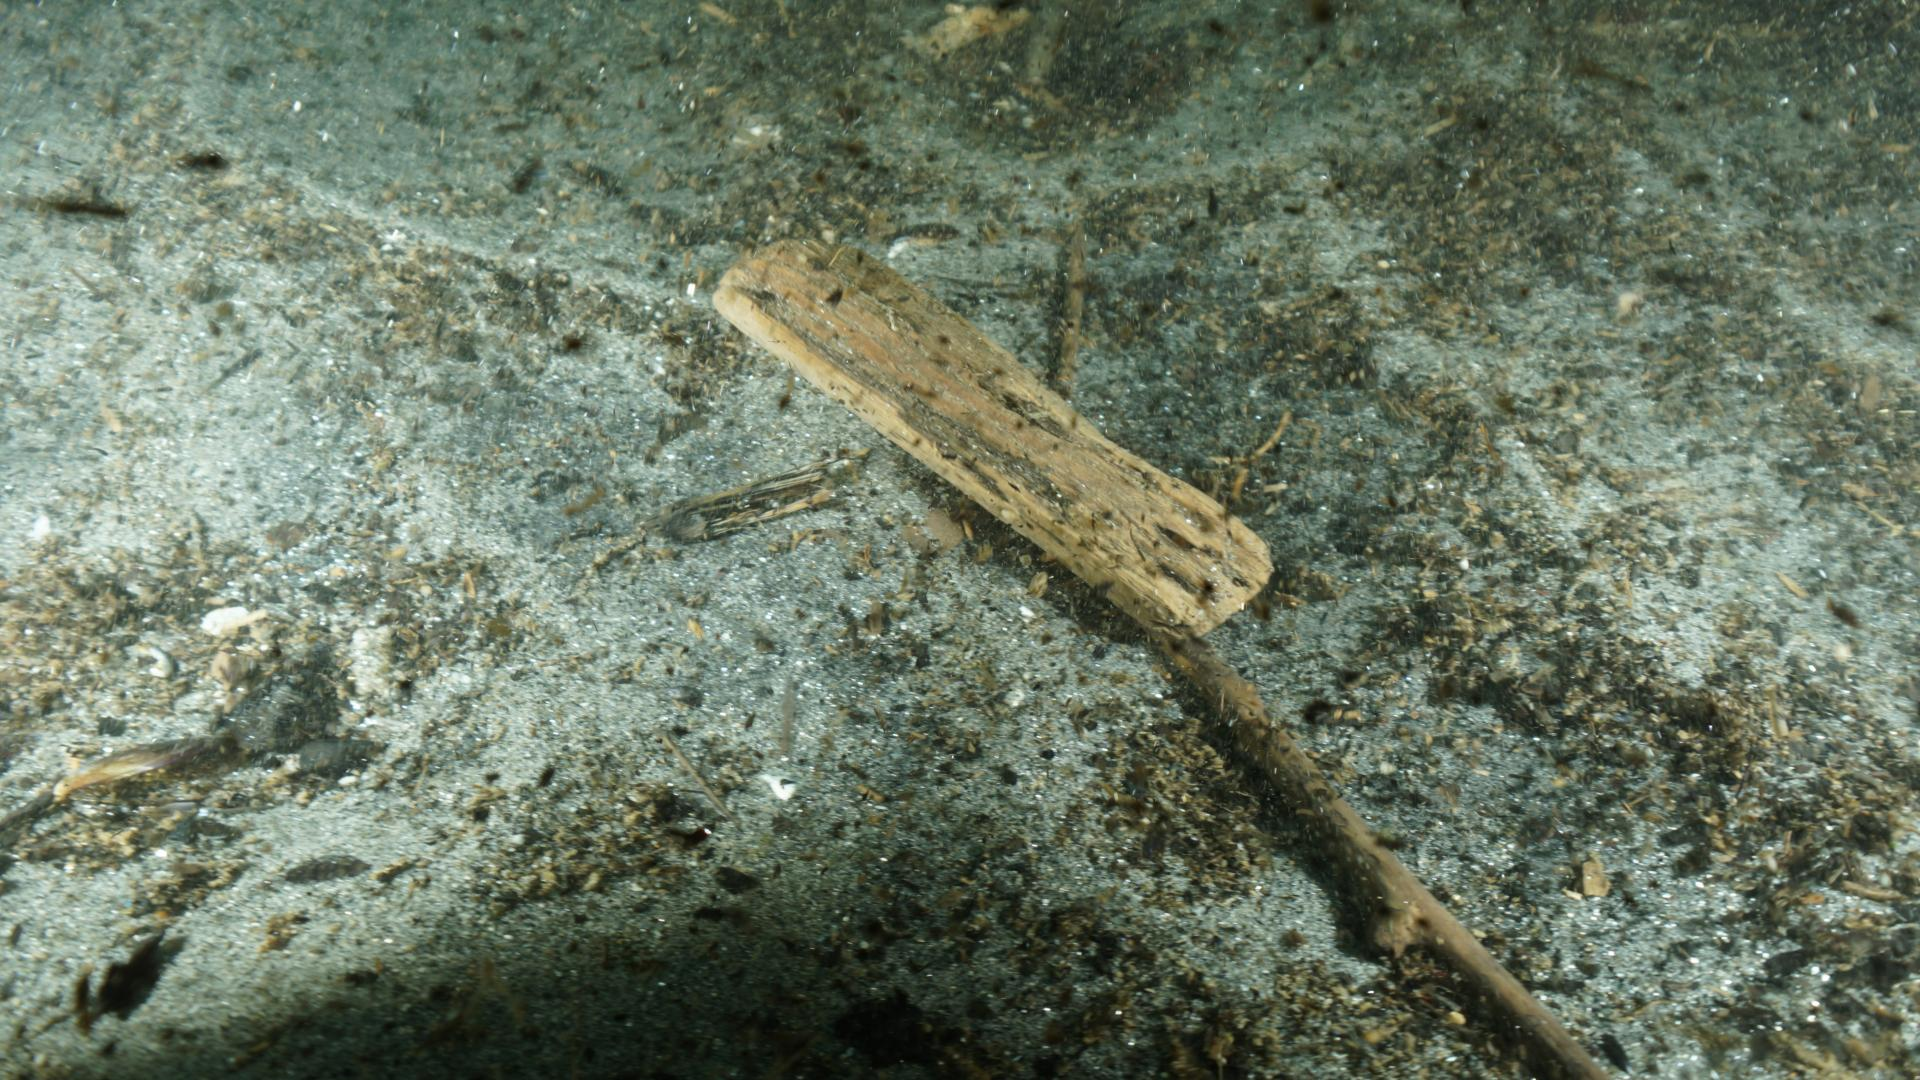wood: (704, 229, 1279, 646)
